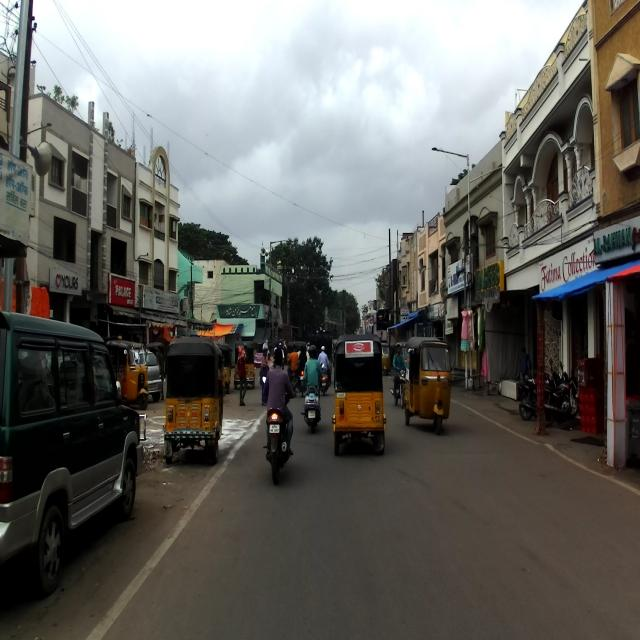Car_Toyota: (0, 306, 147, 594)
autorickshaw: (164, 336, 226, 462), (332, 332, 386, 453), (403, 336, 451, 430)
motorcycle_HeroHonda: (261, 374, 300, 482)
scooter: (302, 370, 320, 433)
